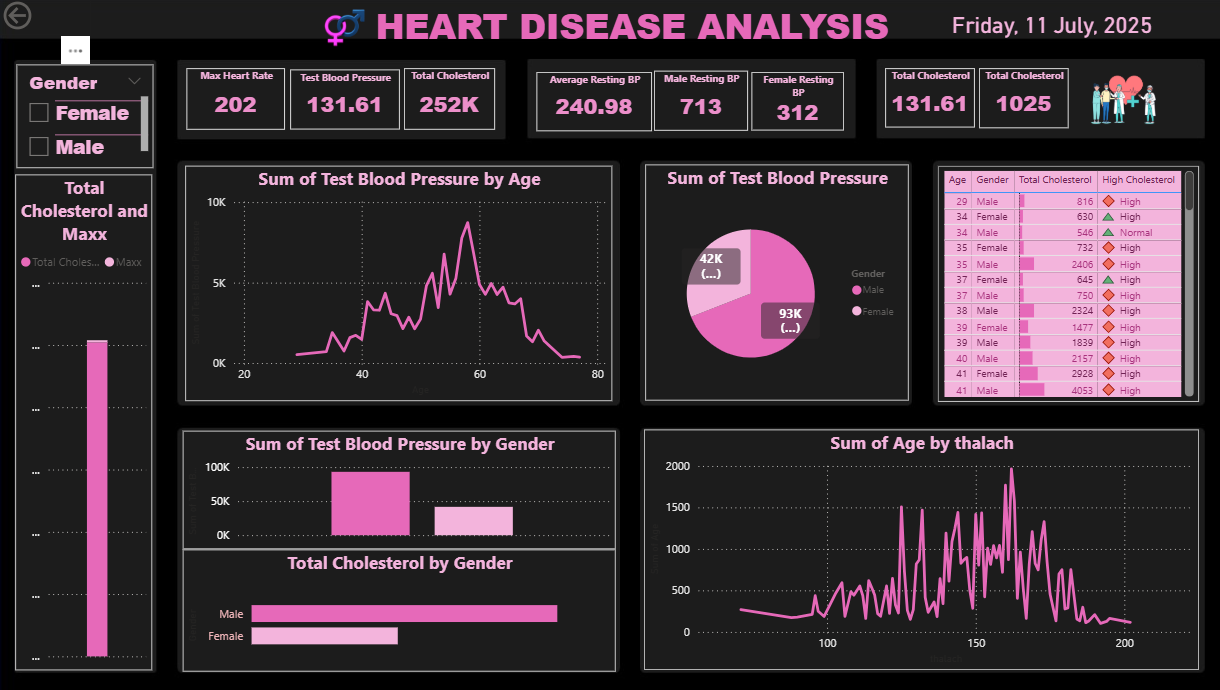

This screenshot's page, from the dashboard's own definition file:
{"tool":"powerbi","page":{"name":"Page 3","canvas":[1320,754],"ordinal":0},"visuals":[{"type":"card","title":"Total Cholesterol","fields":{"Values":["heart.Total Cholesterol"]},"box":[438.3,76.7,98.3,66.7],"z":0},{"type":"card","title":"Test Blood Pressure","fields":{"Values":["Avg(heart.Test Blood Pressure)"]},"box":[315,78.3,118.3,65],"z":1000},{"type":"card","title":"Male Resting BP","fields":{"Values":["heart.Total Male Records"]},"box":[708.3,79.8,101.7,65],"z":2000},{"type":"card","title":"Female Resting BP","fields":{"Values":["heart.Total Female Records"]},"box":[813.3,81.5,100,63.3],"z":3000},{"type":"card","title":"Max Heart Rate","fields":{"Values":["heart.Max Heart Rate"]},"box":[203.3,76.7,106.7,66.7],"z":4000},{"type":"card","title":"Average Resting BP","fields":{"Values":["heart.Avg Cholesterol Target 1"]},"box":[580.6,80.5,125,64],"z":5000},{"type":"card","title":"Total Cholesterol","fields":{"Values":["heart.Overall Average BP"]},"box":[958.3,77.3,97,64],"z":6000},{"type":"card","title":"Total Cholesterol","fields":{"Values":["heart.Total Patient"]},"box":[1060,76.7,96.7,65],"z":7000},{"type":"lineChart","fields":{"Category":["heart.age"],"Y":["Sum(heart.Test Blood Pressure)"]},"box":[200.9,181.8,461.8,254.5],"z":8000},{"type":"pieChart","title":"Sum of Test Blood Pressure","fields":{"Y":["Sum(heart.Test Blood Pressure)"],"Category":["heart.Gender"]},"box":[698.3,181.7,285,255],"z":9000},{"type":"barChart","fields":{"Category":["heart.Gender"],"Y":["heart.Total Cholesterol"]},"box":[198.3,596.7,468.3,131.7],"z":10000},{"type":"lineChart","fields":{"Category":["heart.thalach"],"Y":["Sum(heart.Age)"]},"box":[697.3,467.3,600,260],"z":11000},{"type":"columnChart","fields":{"Category":["heart.Gender"],"Y":["Sum(heart.Test Blood Pressure)"]},"box":[198.3,468.3,468.3,128.3],"z":12000},{"type":"slicer","fields":{"Values":["heart.Gender"]},"box":[18.3,73.3,148.3,111.7],"z":13000},{"type":"columnChart","fields":{"Y":["heart.Total Cholesterol","heart.Maxx"]},"box":[18.2,191.8,148.2,536.4],"z":14000},{"type":"tableEx","fields":{"Values":["heart.Age","heart.Gender","heart.Total Cholesterol","heart.High Cholesterol"]},"box":[1014.5,181.8,282.7,255.5],"z":15000},{"type":"image","box":[1156,66,120,90],"z":16000},{"type":"textbox","box":[374,0,620,66],"z":17000},{"type":"image","box":[340,5,66.7,56.7],"z":18000},{"type":"card","fields":{"Values":["Min(Query2.Date)"]},"box":[958.3,5,361.7,48.3],"z":19000},{"type":"actionButton","box":[0,0,100,40],"z":20000}]}

Visuals, with their boxes in screenshot pixels (x1, y1, x2, y2):
"Total Cholesterol" card: (x1=400, y1=62, x2=492, y2=125)
"Test Blood Pressure" card: (x1=285, y1=64, x2=396, y2=124)
"Male Resting BP" card: (x1=653, y1=65, x2=748, y2=126)
"Female Resting BP" card: (x1=751, y1=67, x2=844, y2=126)
"Max Heart Rate" card: (x1=181, y1=62, x2=280, y2=125)
"Average Resting BP" card: (x1=533, y1=66, x2=650, y2=126)
"Total Cholesterol" card: (x1=886, y1=63, x2=977, y2=123)
"Total Cholesterol" card: (x1=981, y1=62, x2=1072, y2=123)
lineChart - heart.age x Sum(heart.Test Blood Pressure): (x1=178, y1=160, x2=610, y2=398)
"Sum of Test Blood Pressure" pieChart: (x1=643, y1=160, x2=910, y2=399)
barChart - heart.Gender x heart.Total Cholesterol: (x1=176, y1=548, x2=614, y2=671)
lineChart - heart.thalach x Sum(heart.Age): (x1=642, y1=427, x2=1203, y2=670)
columnChart - heart.Gender x Sum(heart.Test Blood Pressure): (x1=176, y1=428, x2=614, y2=548)
slicer - heart.Gender: (x1=8, y1=59, x2=146, y2=163)
columnChart - heart.Total Cholesterol x heart.Maxx: (x1=7, y1=170, x2=146, y2=671)
tableEx - heart.Age x heart.Gender: (x1=939, y1=160, x2=1203, y2=399)
image: (x1=1071, y1=52, x2=1183, y2=136)
textbox: (x1=340, y1=0, x2=920, y2=52)
image: (x1=308, y1=0, x2=371, y2=48)
card - Min(Query2.Date): (x1=886, y1=0, x2=1219, y2=40)
actionButton: (x1=0, y1=0, x2=84, y2=28)
